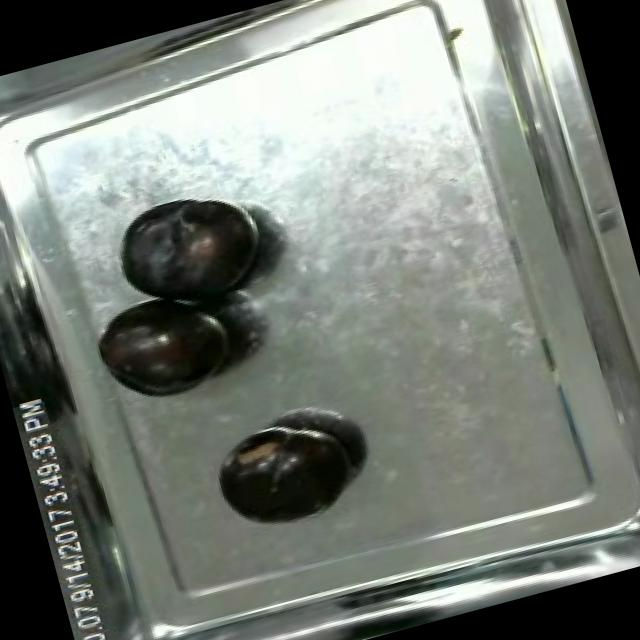Fruit: (102, 178, 278, 326), (82, 277, 246, 414), (203, 409, 369, 541)
